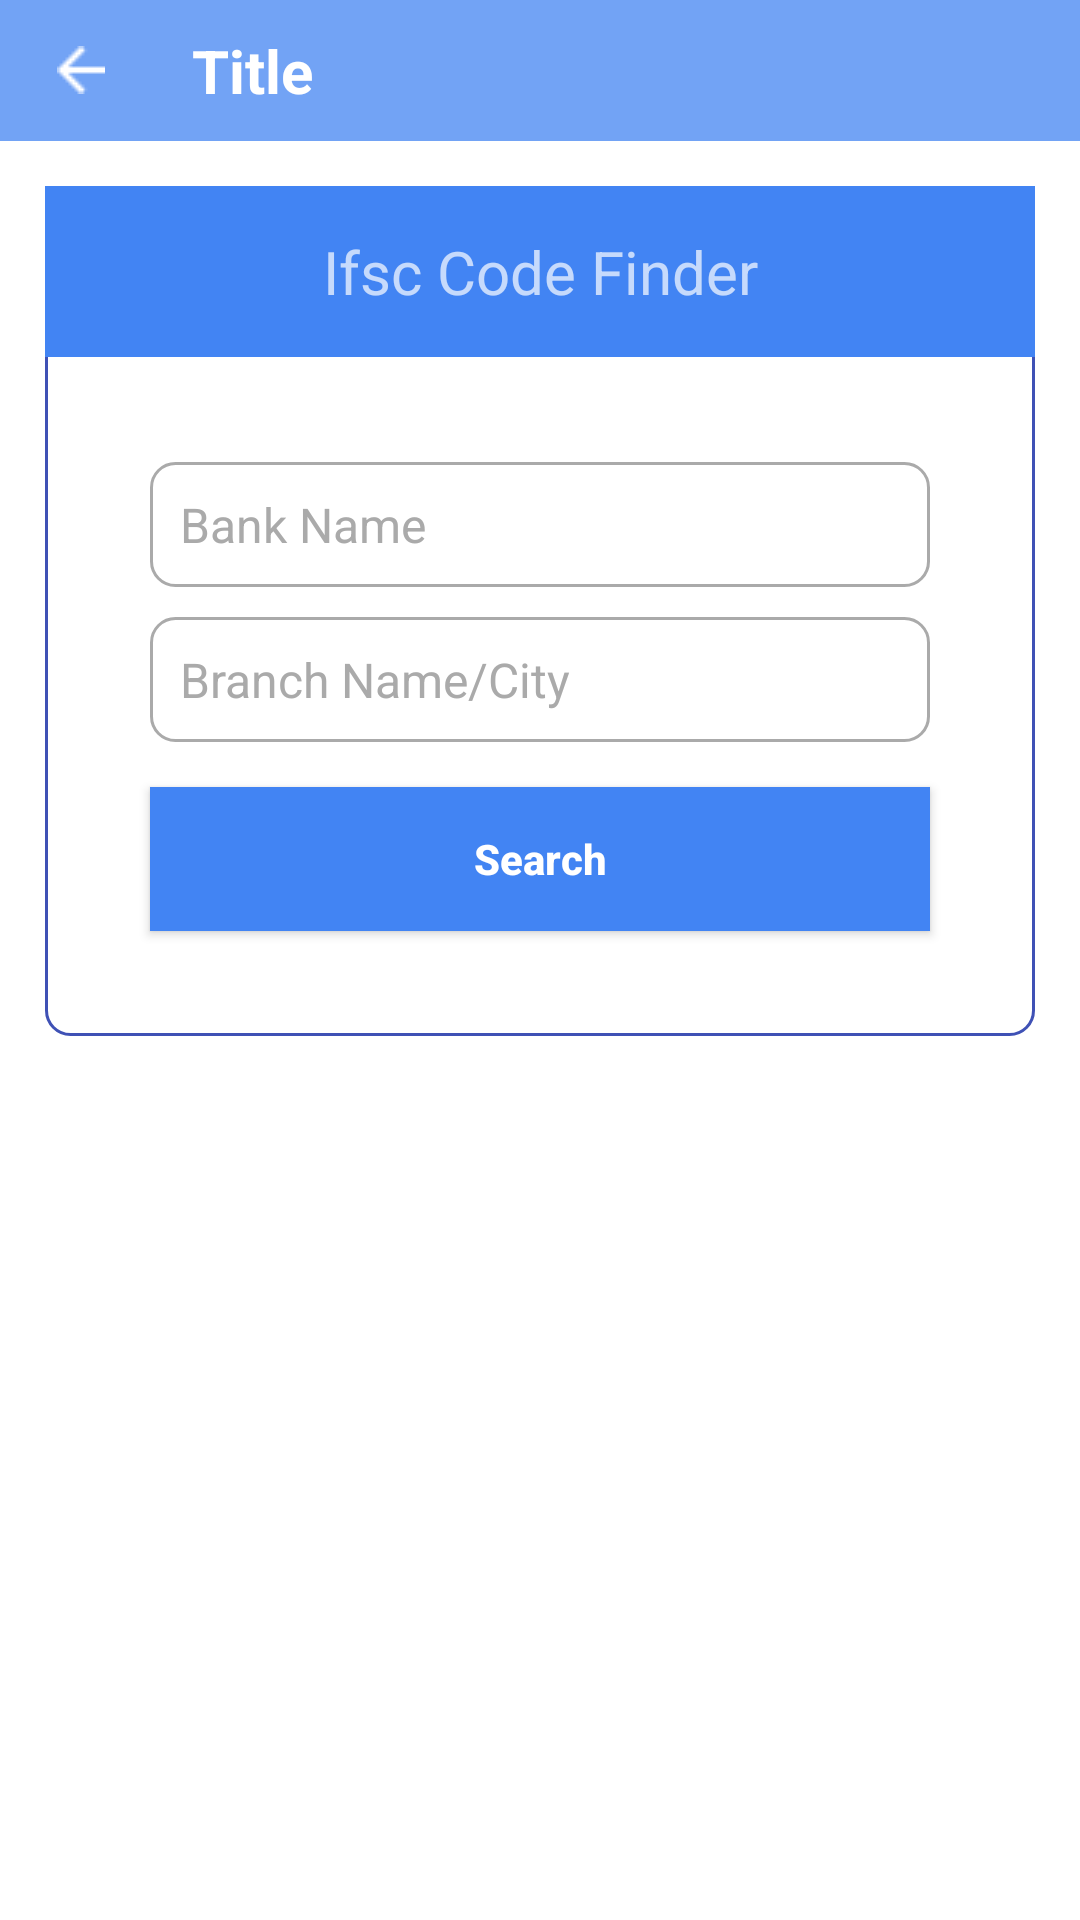

Screen size 1080px×1920px. Icon name, then its center in pixels as (x=x, y=y):
back: (x=81, y=70)
